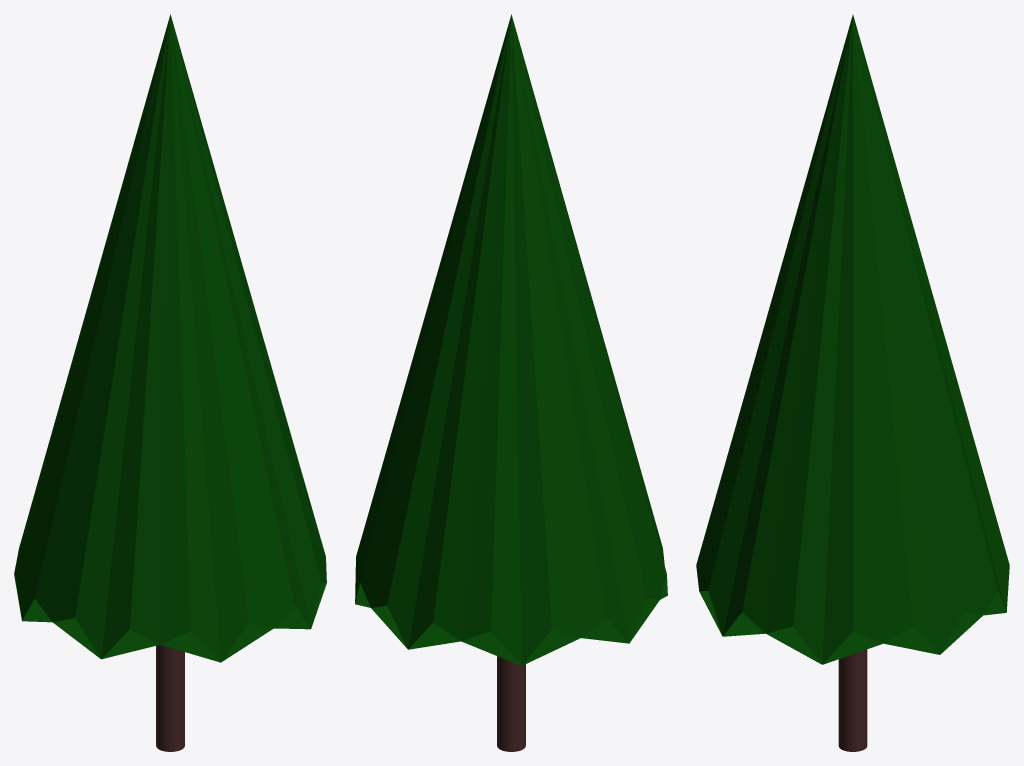
Rendered from fir_3.glb.
The picture shows the model from 3 angles, left to right: view 1: azimuth 30°, elevation 25°; view 2: azimuth 150°, elevation 25°; view 3: azimuth 270°, elevation 25°; orthographic projection.
Parts seen in each view (by area): view 1: Cone, Cylinder; view 2: Cone, Cylinder; view 3: Cone, Cylinder.
Part boxes in pixels (x1=…): Cone: x1=14, y1=14, x2=326, y2=662; Cylinder: x1=156, y1=645, x2=184, y2=751; Cone: x1=355, y1=14, x2=667, y2=665; Cylinder: x1=497, y1=656, x2=525, y2=751; Cone: x1=696, y1=15, x2=1009, y2=664; Cylinder: x1=838, y1=649, x2=867, y2=751.
Bounding box in the file's own units: 5.26 × 13.56 × 5.26.
